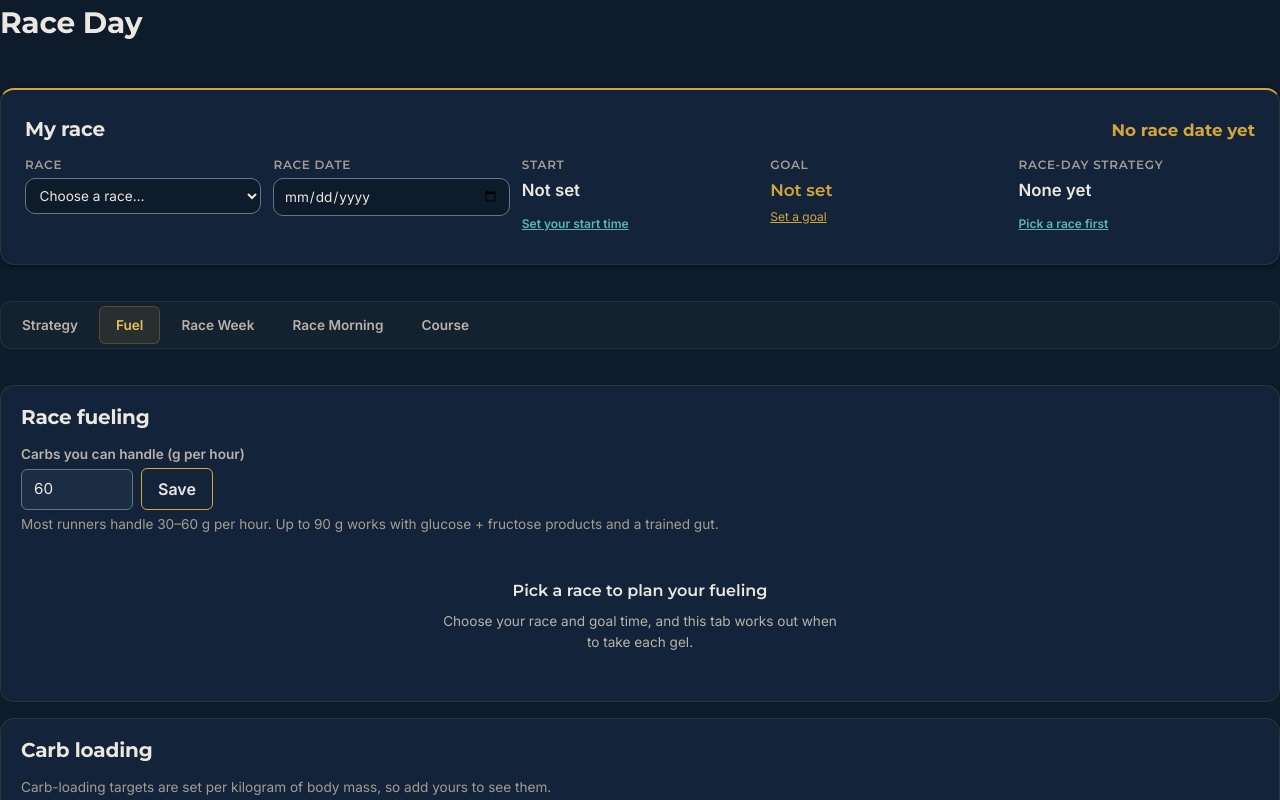
Test case: RaceDay page — empty data › opens the tab named in ?tab= and keeps tab changes in the URL
Expected: the heading "Race fueling" is shown, [21,405,150,429]
Click the tab "Race Morning" at point(338, 325), box [275,306,400,344]
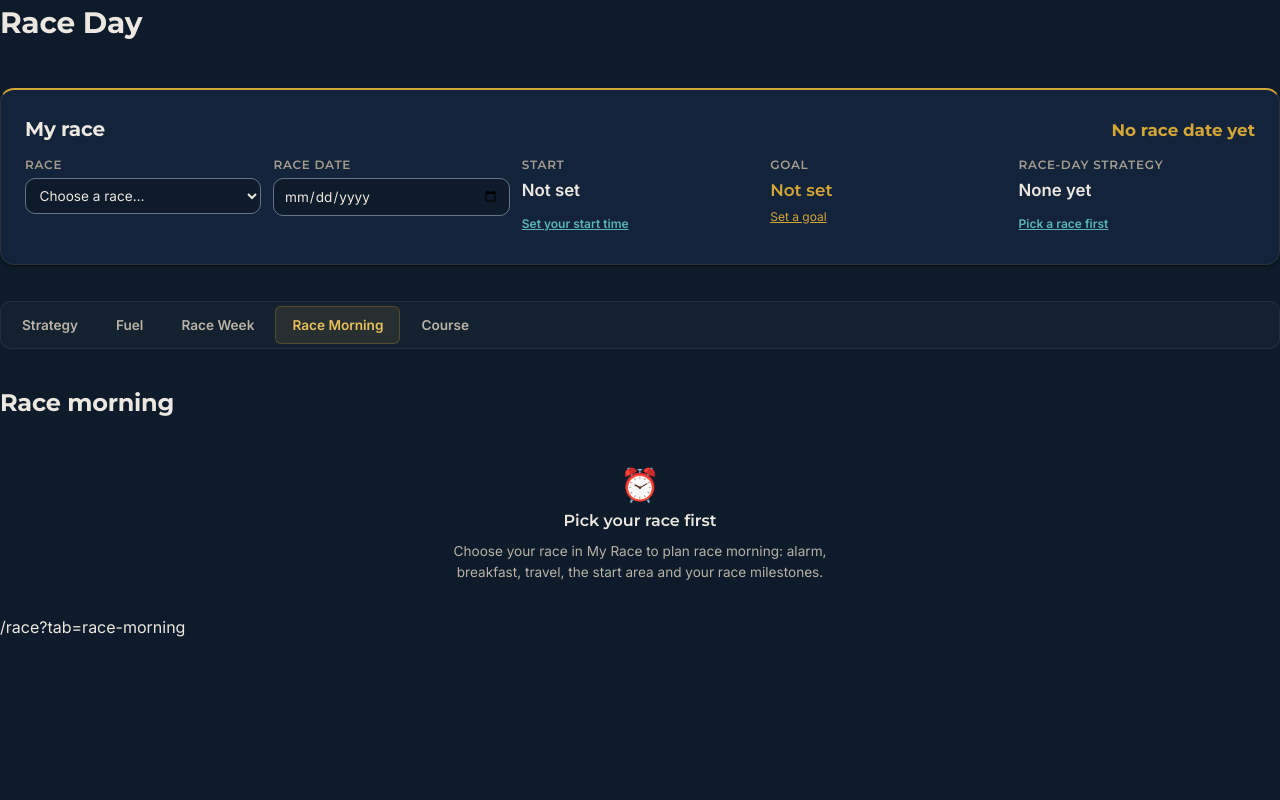
Expected: the text "Race Morning" is shown, [292,315,383,335]
Now the text with test id "location" reads "/race?tab=race-morning", box [0,617,185,637]
Click the tab "Course" at point(445, 325), box [404,306,486,344]
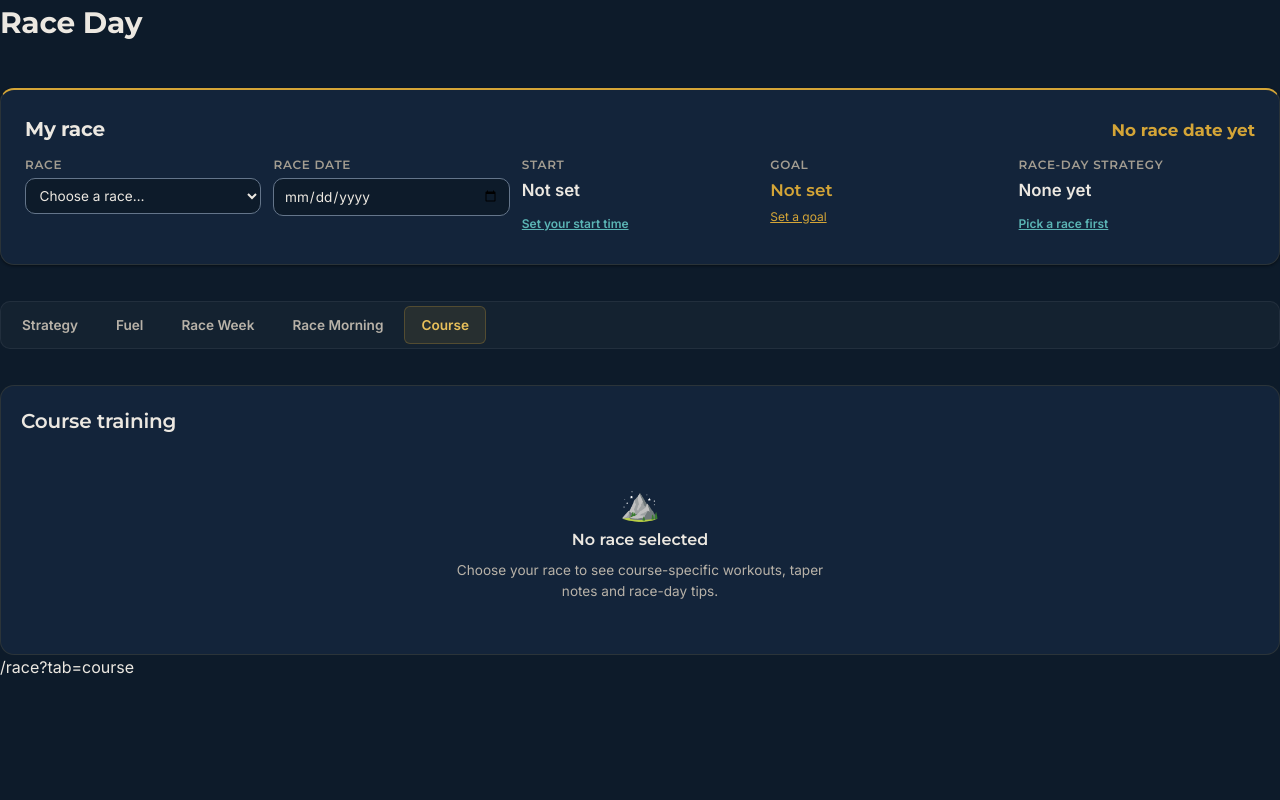
Now the text with test id "location" reads "/race?tab=course", box [0,657,134,677]
